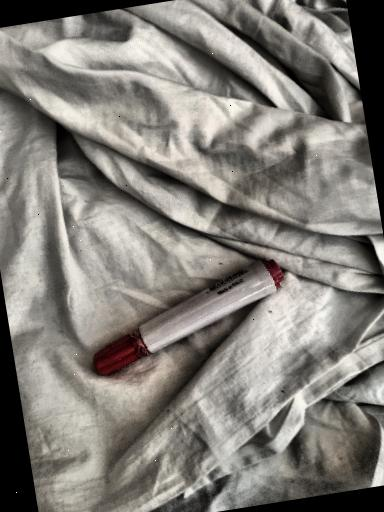marcador rojo: (93, 258, 284, 375)
